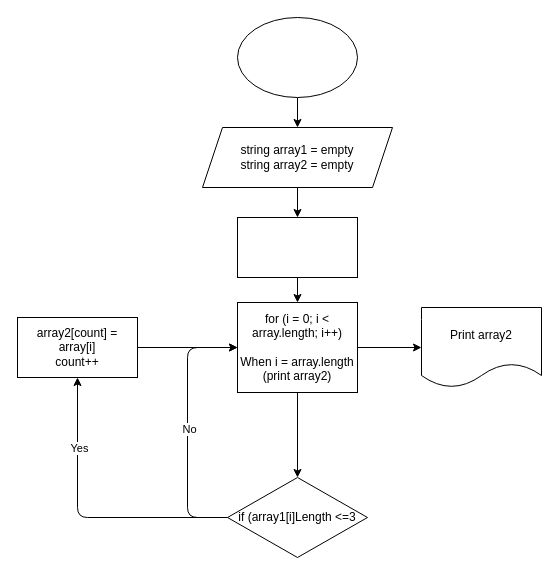
Some shapes in this 559 by 575 pixel diagram are drawn without their labels. The centre of each missing label's shape, as x and y in pixels:
start: (297,57)
string array1 = FillArray: (297,247)
